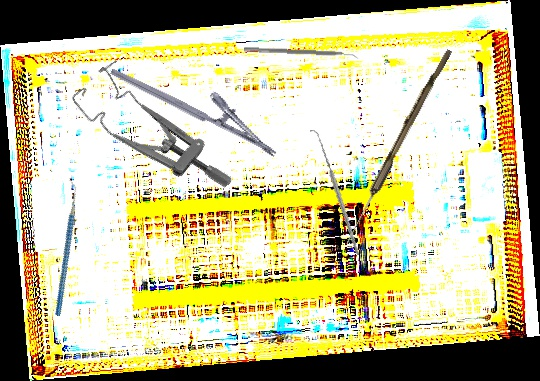Chopper: (11, 177, 118, 317)
Hook Surgical: (287, 129, 382, 256)
Needle Holder: (109, 45, 289, 159)
Spatula Surgical: (243, 46, 360, 62)
Speculum: (67, 47, 236, 228)
Surgical Spoon: (342, 46, 453, 247)
